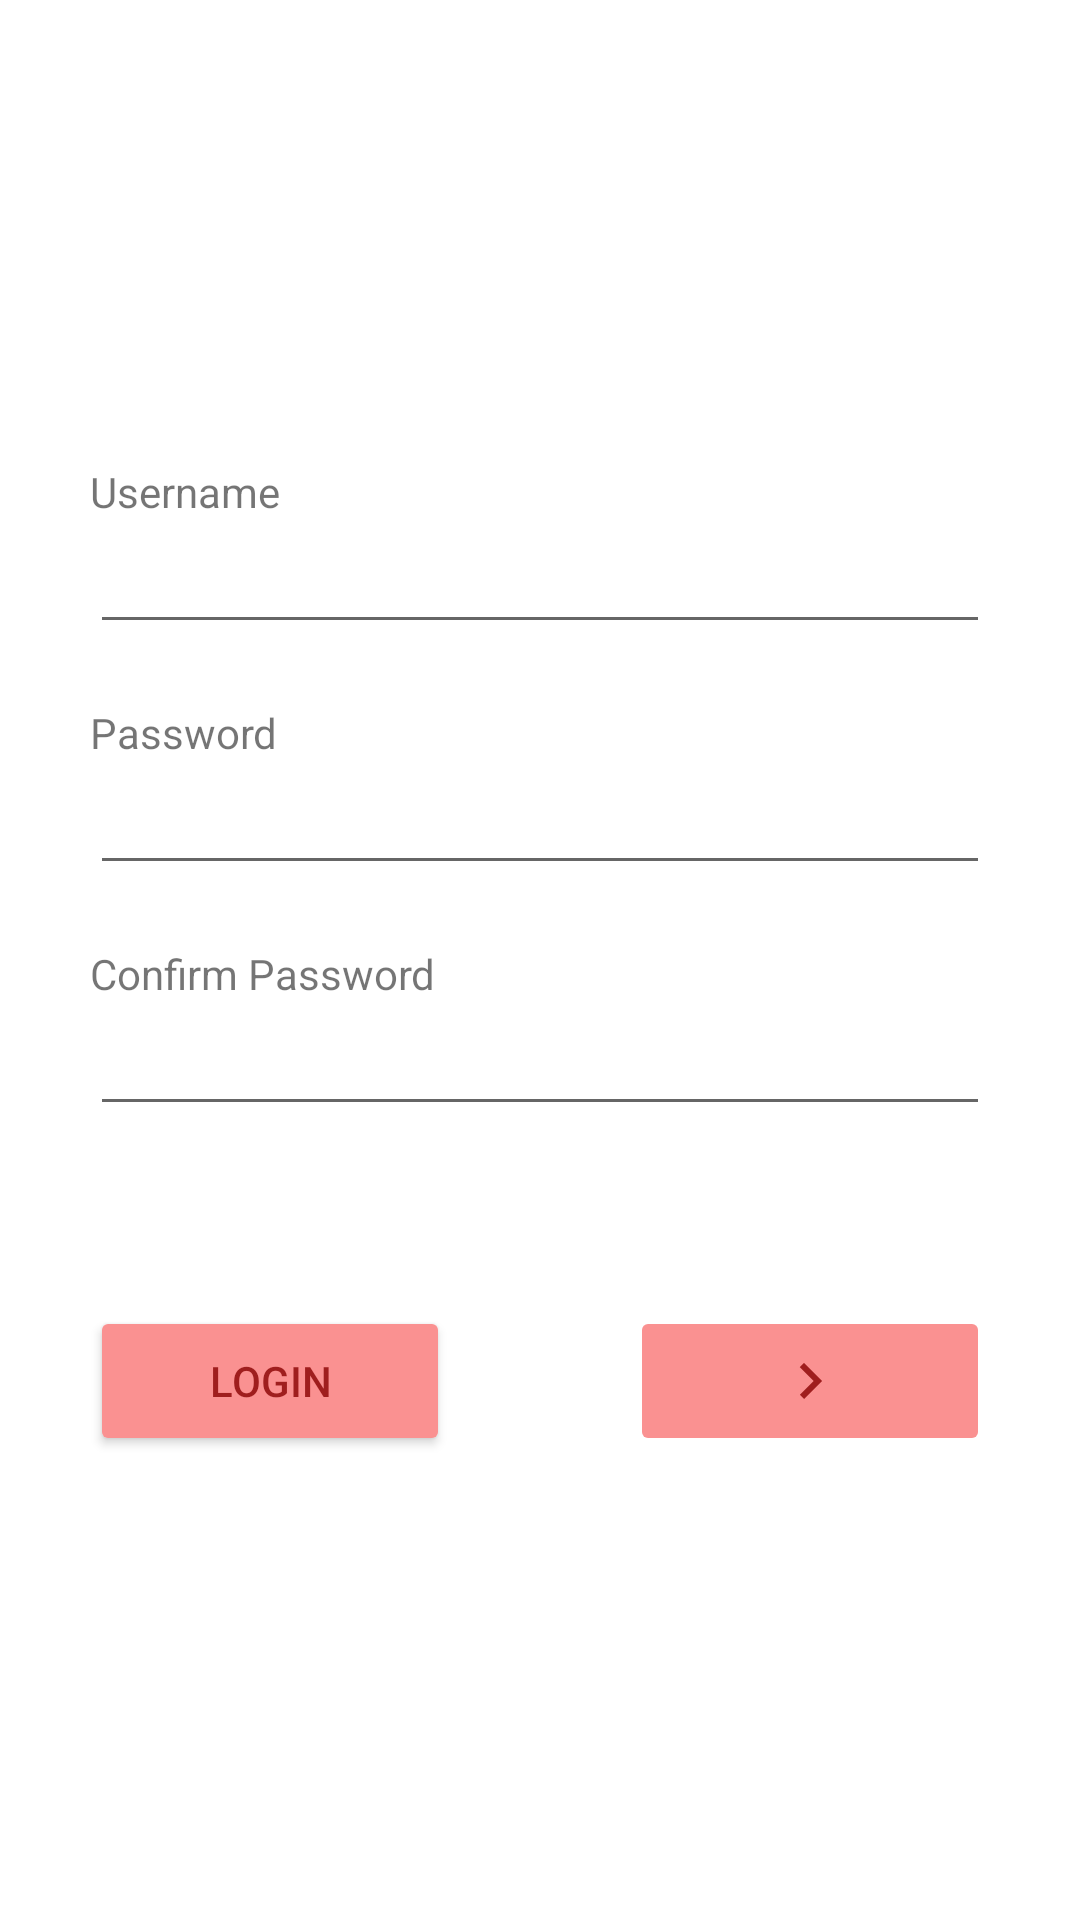

Named icons in this screenshot (1080*1920) and their centers, (x=x, y=y):
keyboard arrow right: (x=810, y=1381)
